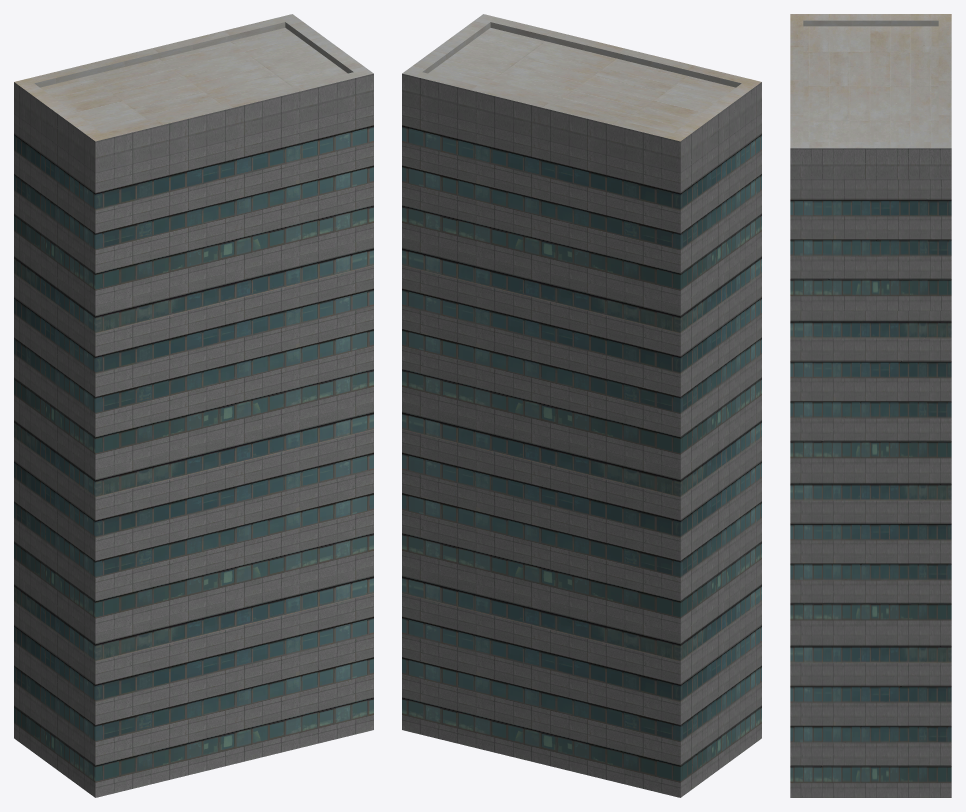
Rendered from Pizza_Delivery house13_5.fbx.
The picture shows the model from 3 angles, left to right: view 1: azimuth 30°, elevation 25°; view 2: azimuth 150°, elevation 25°; view 3: azimuth 270°, elevation 25°; orthographic projection.
Parts seen in each view (by area): view 1: Pizza_Delivery:Pizza_Delivery:house13_5; view 2: Pizza_Delivery:Pizza_Delivery:house13_5; view 3: Pizza_Delivery:Pizza_Delivery:house13_5.
Part boxes in pixels (bbox=[...]): Pizza_Delivery:Pizza_Delivery:house13_5: bbox=[14, 14, 373, 797]; Pizza_Delivery:Pizza_Delivery:house13_5: bbox=[402, 14, 761, 797]; Pizza_Delivery:Pizza_Delivery:house13_5: bbox=[790, 14, 951, 797].
Size of the model in its own units: 14.18 by 31.95 by 7.18.
